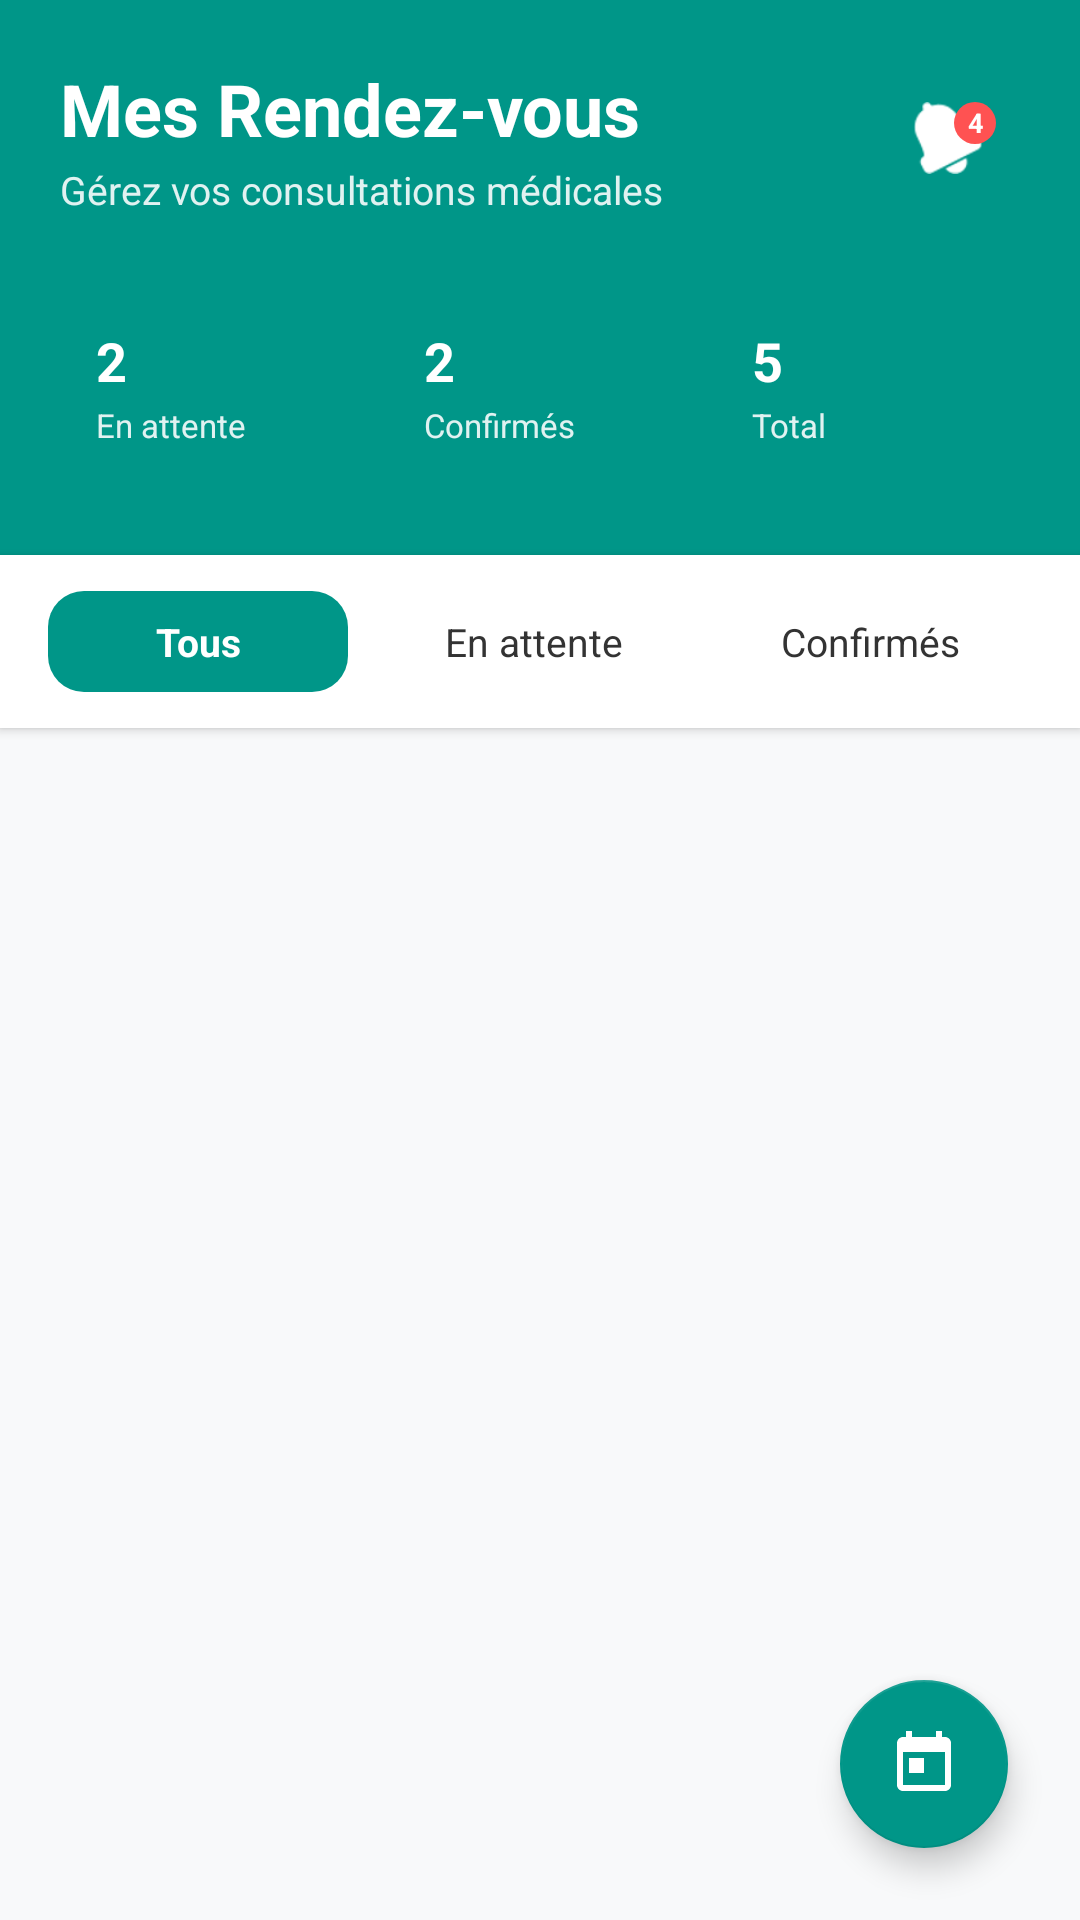

Icons on this 1080 × 1920 Android screen, each with the point to tap as (x,y):
calendar: (924,1764)
popup reminder: (949,138)
